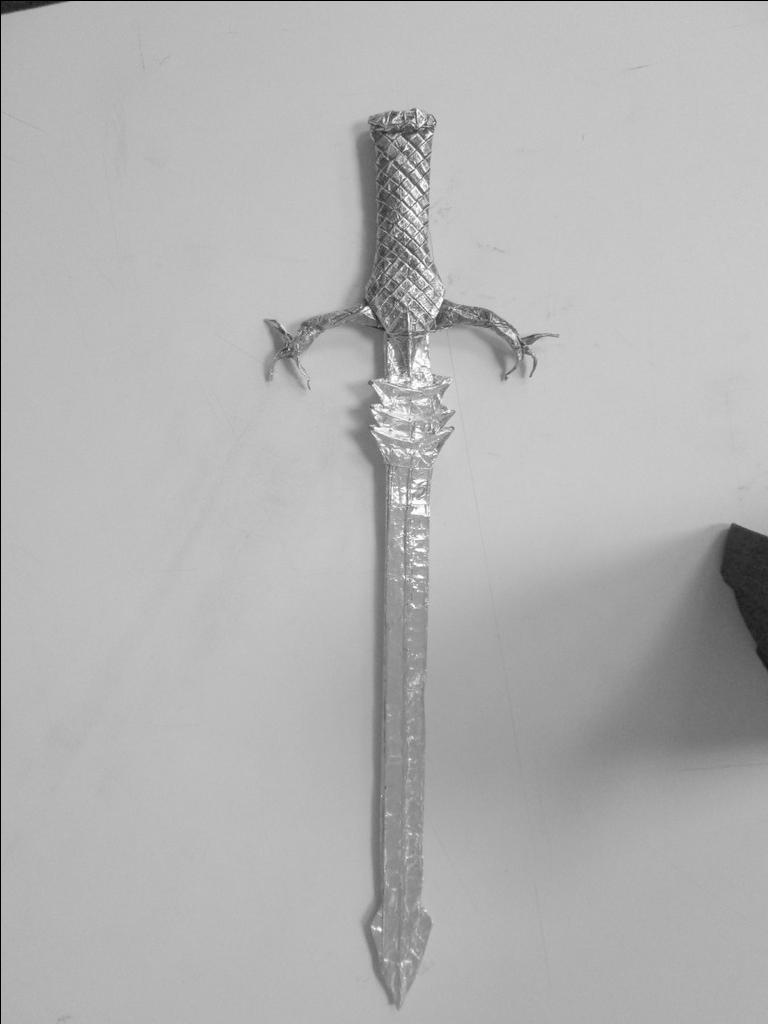melee: (260, 105, 528, 1008)
